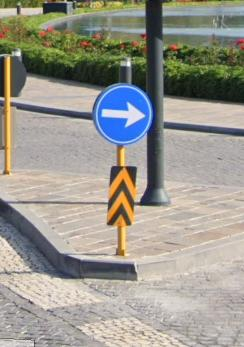turnright: (96, 85, 152, 144)
